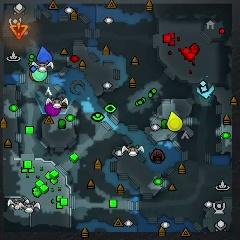p1: (36, 46, 53, 64)
p2: (32, 67, 48, 81)
p3: (45, 103, 61, 116)
p4: (167, 111, 180, 131)
p5: (29, 69, 33, 80)
x3: (197, 81, 214, 98)
